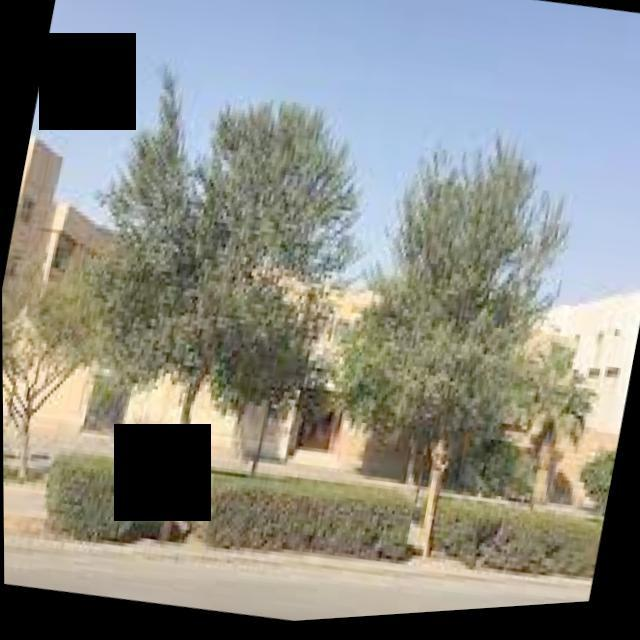Tree: (5, 67, 376, 574), (298, 114, 631, 598), (572, 453, 618, 538)
